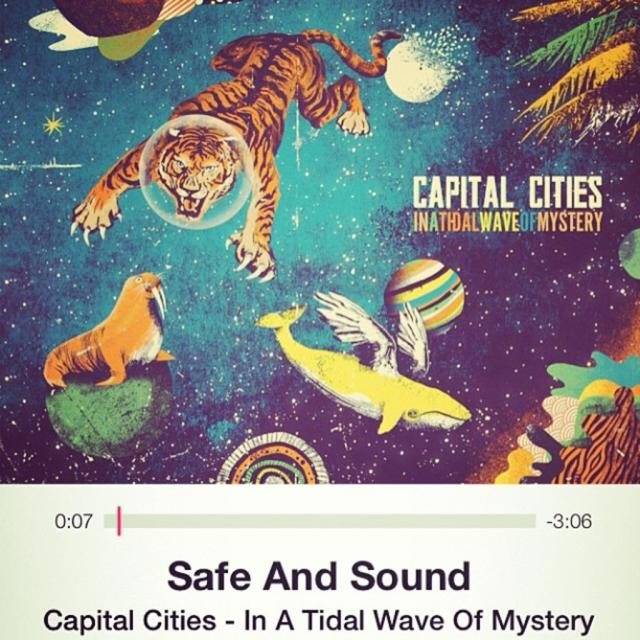Tiger: (67, 26, 403, 284)
